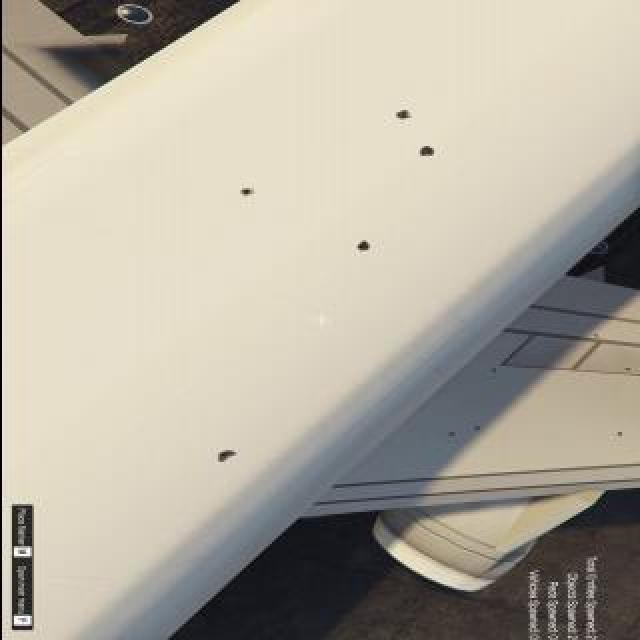crack: (214, 450, 242, 468), (392, 109, 414, 123), (415, 146, 439, 158), (354, 240, 374, 254), (232, 188, 254, 200), (468, 426, 484, 434), (485, 368, 501, 376), (615, 431, 627, 439), (443, 433, 455, 437)
